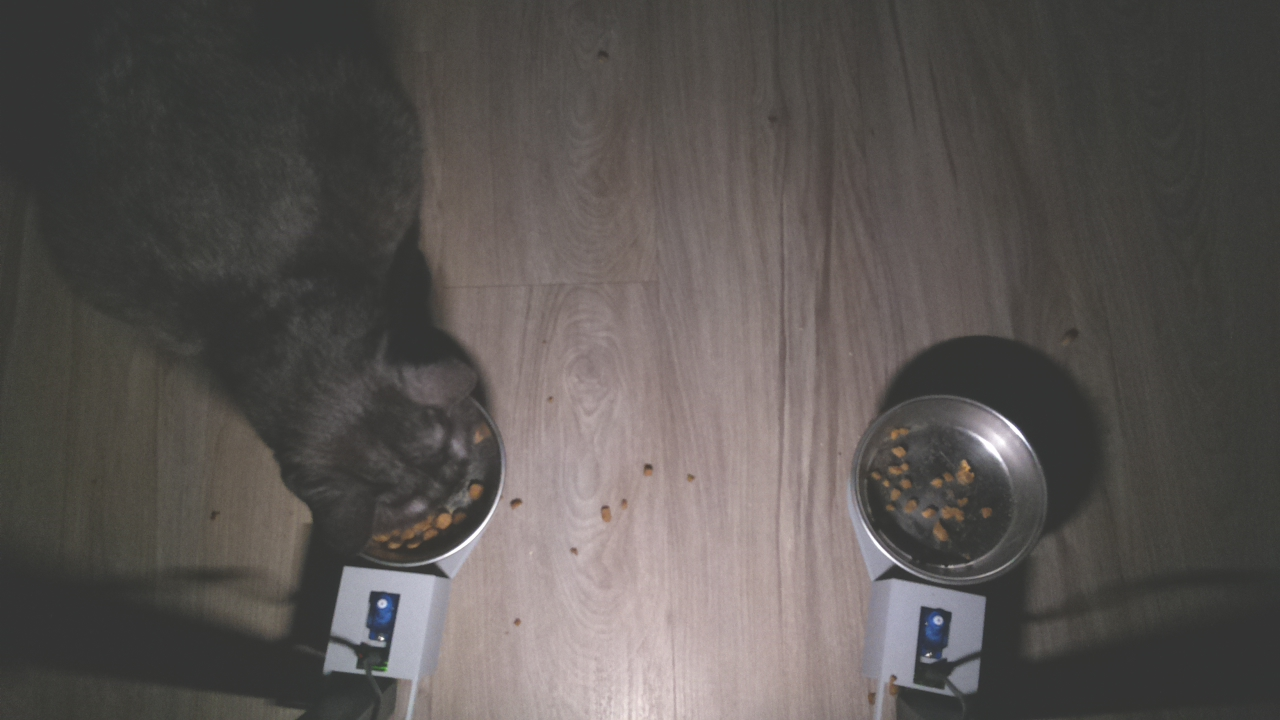open_bowl: (848, 391, 1054, 591)
saki_eating: (220, 320, 515, 583)
